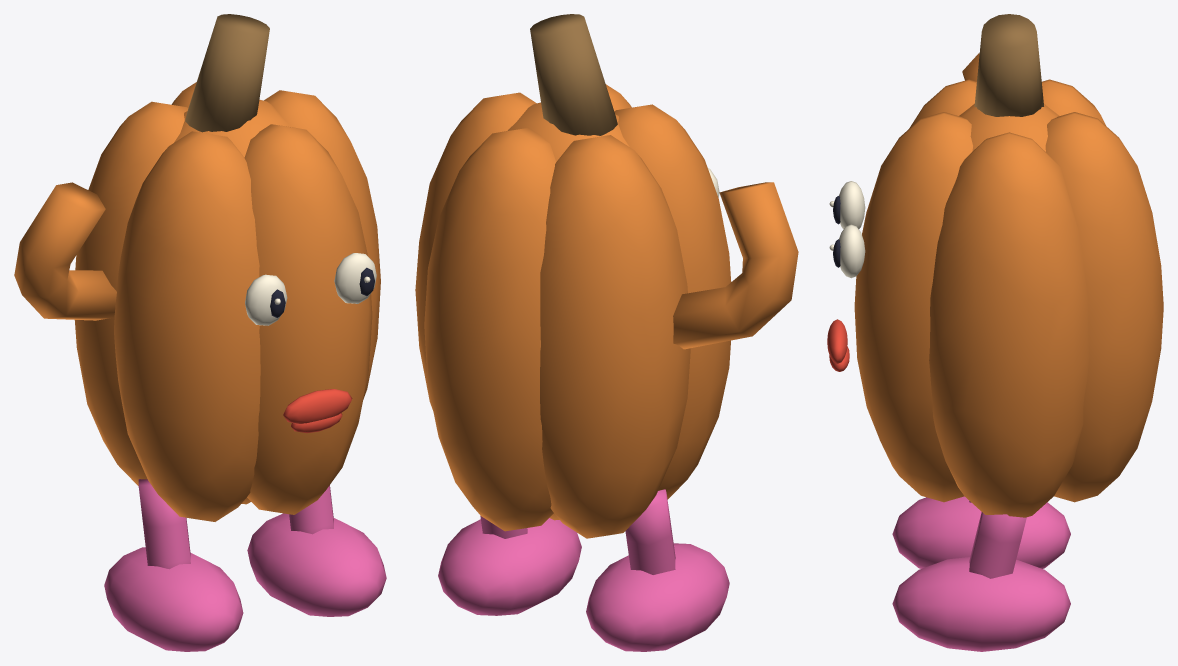
The model's file is stunner.glb.
3 renders of one model, left to right at view 1: azimuth 30°, elevation 25°; view 2: azimuth 150°, elevation 25°; view 3: azimuth 270°, elevation 25°, orthographic. The views are drawn at different scales.
Parts seen in each view (by area): view 1: stunner_toy-sw-orange, stunner_toy-sw-pink, stunner_toy-sw-brown, stunner_toy-sw-paper, stunner_toy-sw-red, stunner_toy-sw-ink; view 2: stunner_toy-sw-orange, stunner_toy-sw-pink, stunner_toy-sw-brown; view 3: stunner_toy-sw-orange, stunner_toy-sw-pink, stunner_toy-sw-brown, stunner_toy-sw-paper, stunner_toy-sw-red.
Part boxes in pixels (x1,y1,x2,y2): stunner_toy-sw-orange: [14, 82, 380, 521]; stunner_toy-sw-pink: [104, 479, 386, 651]; stunner_toy-sw-brown: [185, 14, 269, 132]; stunner_toy-sw-paper: [245, 253, 376, 325]; stunner_toy-sw-red: [283, 389, 352, 433]; stunner_toy-sw-ink: [270, 267, 374, 317]; stunner_toy-sw-orange: [415, 84, 798, 538]; stunner_toy-sw-pink: [438, 489, 729, 651]; stunner_toy-sw-brown: [530, 14, 617, 135]; stunner_toy-sw-orange: [854, 53, 1163, 517]; stunner_toy-sw-pink: [892, 496, 1070, 651]; stunner_toy-sw-brown: [974, 14, 1043, 116]; stunner_toy-sw-paper: [829, 181, 865, 278]; stunner_toy-sw-red: [827, 319, 849, 371].
Size of the model in its own units: 0.5996 by 0.9692 by 0.5012.
